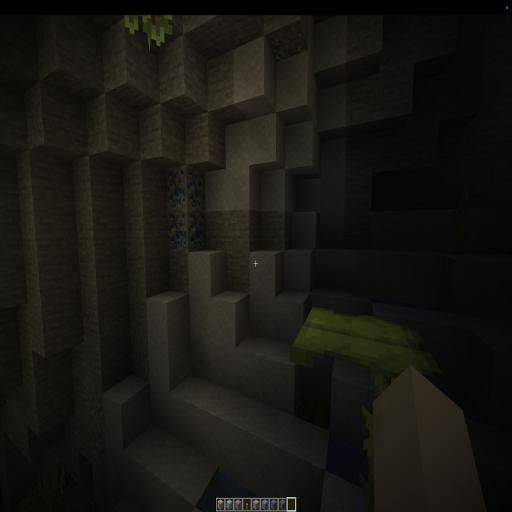lapis ore: (162, 165, 207, 251)
